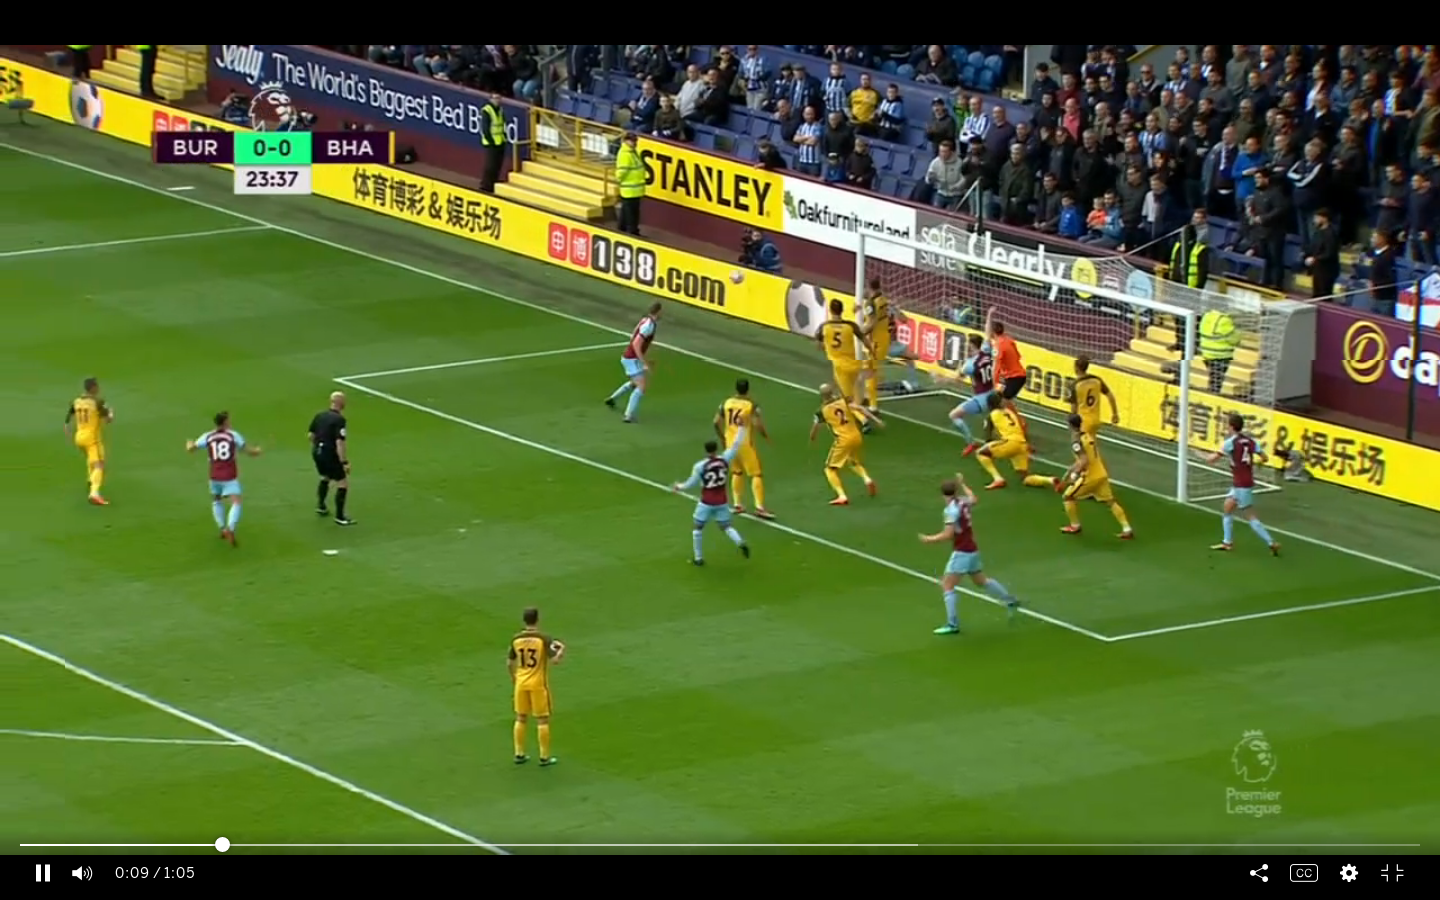referee: (301, 383, 356, 532)
soccer player: (1184, 411, 1295, 566), (499, 602, 572, 771), (182, 402, 264, 551), (922, 472, 988, 637), (672, 437, 750, 569), (601, 296, 673, 429), (804, 377, 876, 511), (61, 371, 121, 520), (715, 379, 767, 525), (1064, 422, 1119, 546), (819, 300, 870, 425), (1061, 352, 1115, 457), (945, 336, 996, 449), (984, 399, 1038, 494), (988, 319, 1032, 399)
soccerball: (728, 268, 747, 291)
